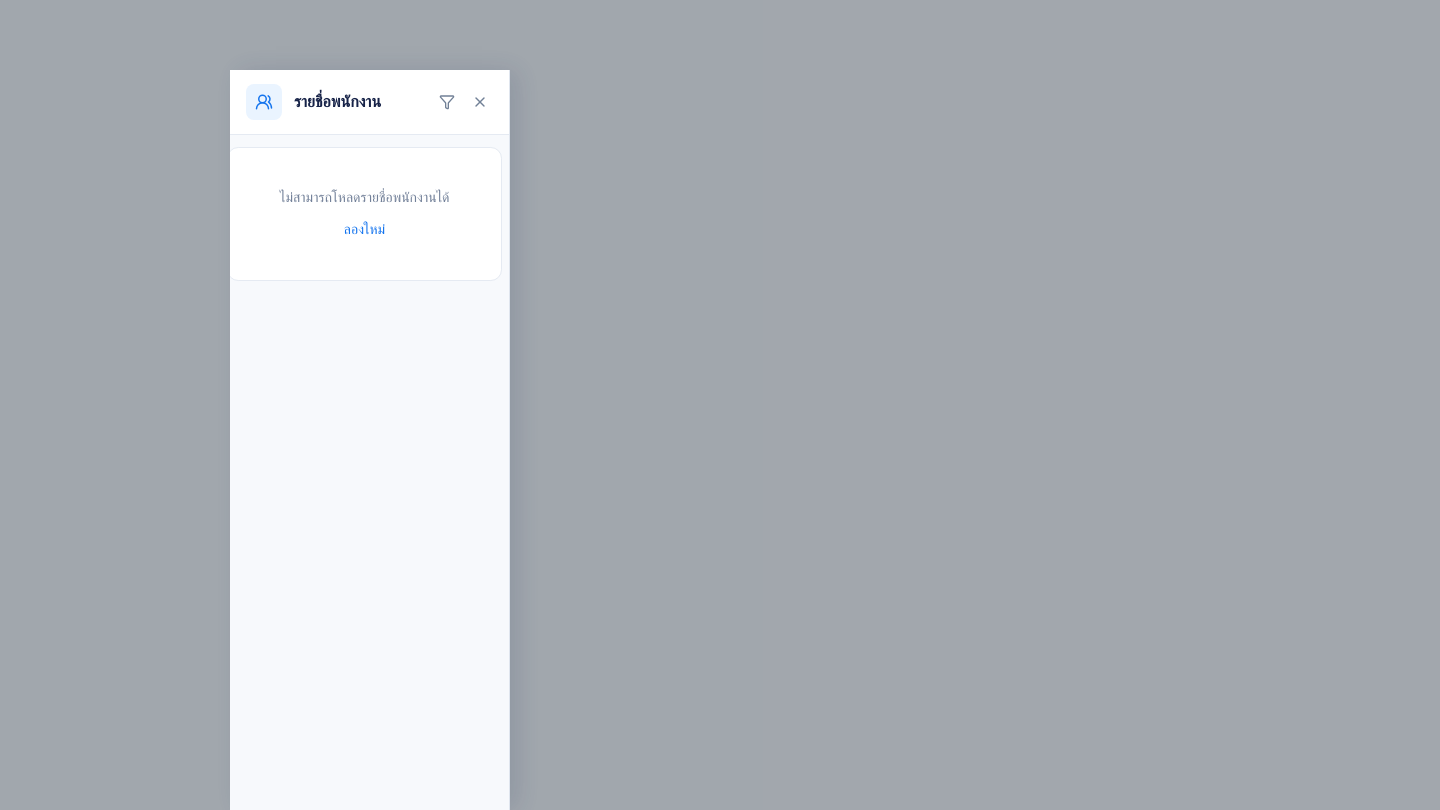
Employee picker asynchronous loading › keeps the panel open on failure and loads employees after retry
The width and height of the screenshot is (1440, 810).
Expected: the message reads "ไม่สามารถโหลดรายชื่อพนักงานได้", [280, 190, 450, 205]
Click the button "ลองใหม่": x=364, y=230 [344, 220, 385, 240]
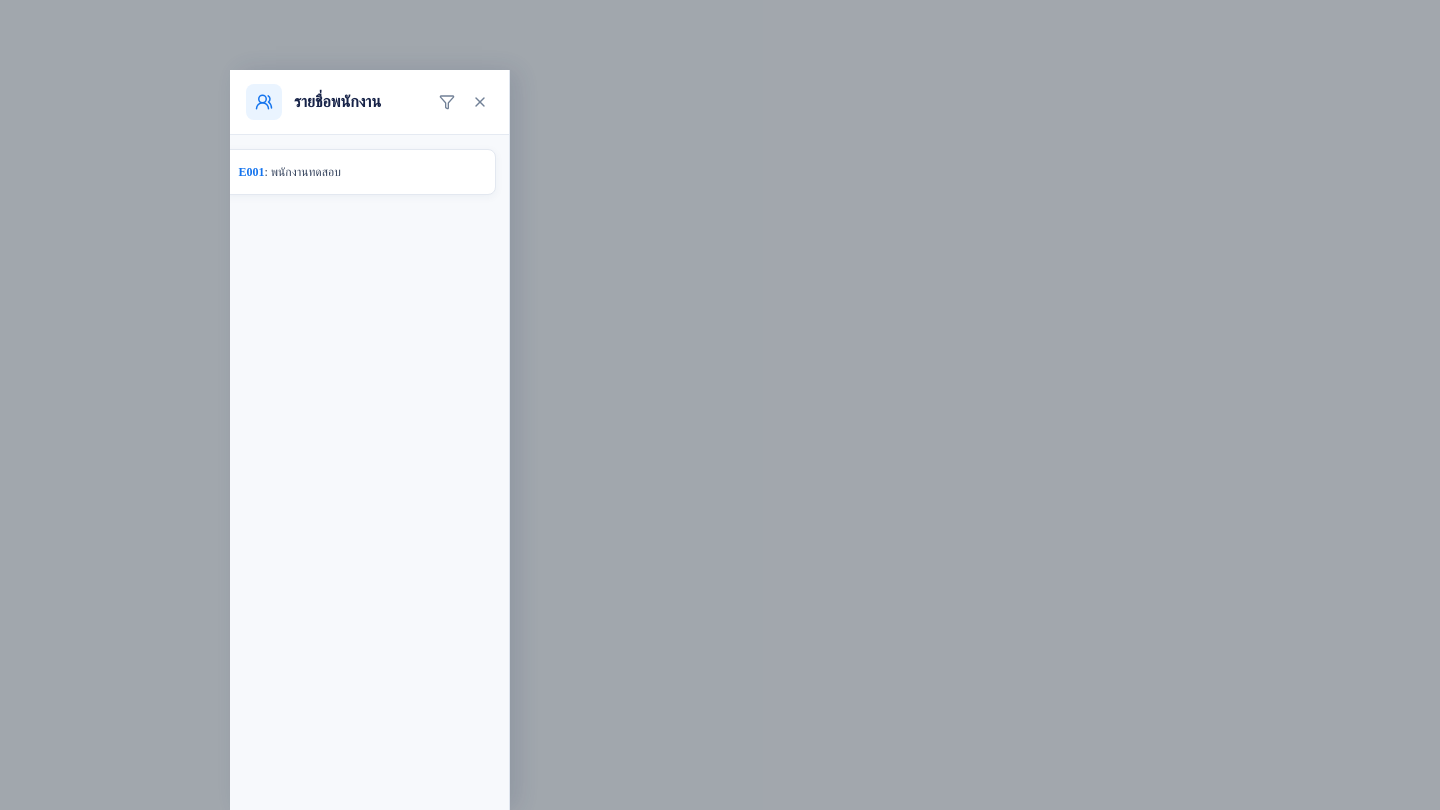
Expected: the button "E001: พนักงานทดสอบ" is shown, [230, 149, 496, 195]
